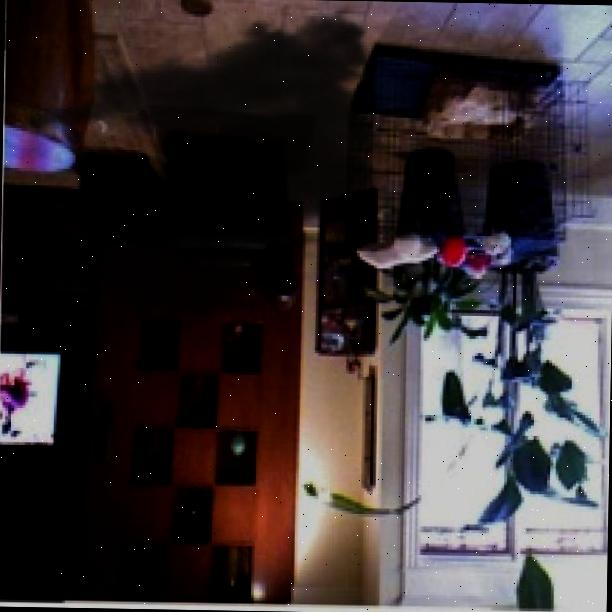smoke: (26, 0, 404, 346)
